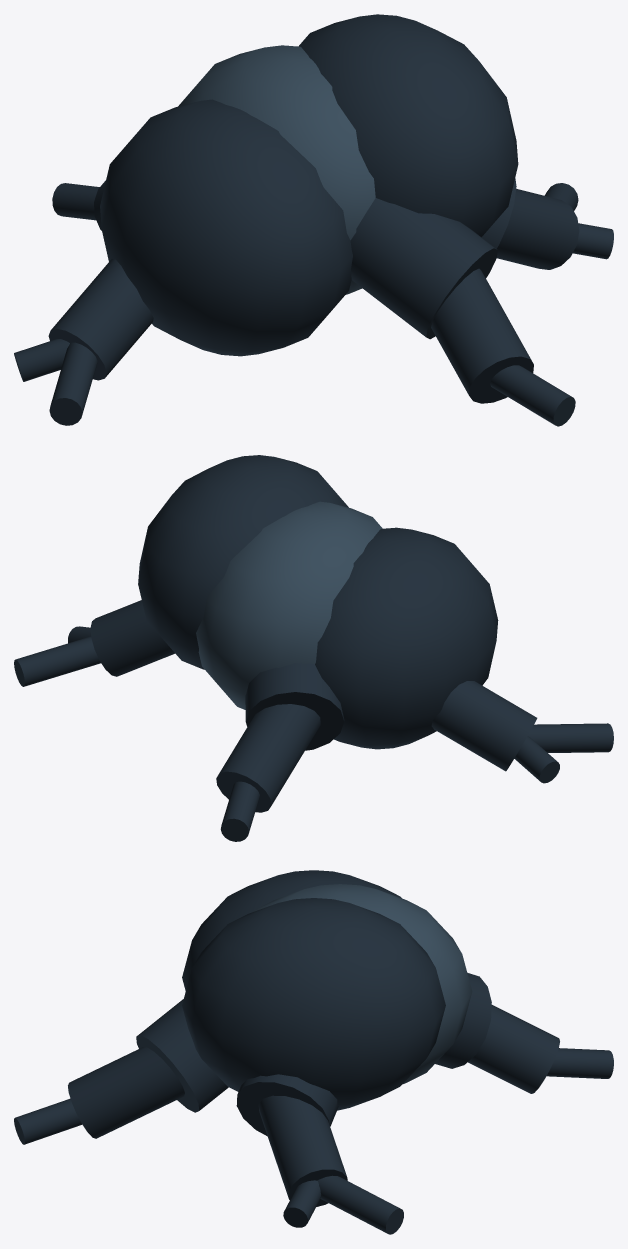
File: CMU3DHiveCMUHunterShipObjEffectAlienWeedsNodeForsakenWeednodeSouth.glb
The picture shows the model from 3 angles, top to bottom: view 1: azimuth 30°, elevation 25°; view 2: azimuth 150°, elevation 25°; view 3: azimuth 270°, elevation 25°; orthographic projection. The views are drawn at different scales.
Visible parts, largest first — view 1: overlapping root node (×3), sinuous anchoring root (×8), forked root tip (×2); view 2: overlapping root node (×3), sinuous anchoring root (×7), forked root tip; view 3: overlapping root node (×3), sinuous anchoring root (×9), forked root tip.
Boxes of the visible parts, x1=… form: overlapping root node (×3): x1=100, y1=14, x2=518, y2=356; sinuous anchoring root (×8): x1=48, y1=178, x2=579, y2=426; forked root tip (×2): x1=14, y1=223, x2=613, y2=381; overlapping root node (×3): x1=138, y1=455, x2=498, y2=749; sinuous anchoring root (×7): x1=14, y1=600, x2=613, y2=841; forked root tip: x1=514, y1=736, x2=559, y2=783; overlapping root node (×3): x1=182, y1=870, x2=472, y2=1110; sinuous anchoring root (×9): x1=14, y1=973, x2=613, y2=1234; forked root tip: x1=283, y1=1180, x2=321, y2=1227.
Size of the model in its own units: 0.507 by 0.2182 by 0.5001.
